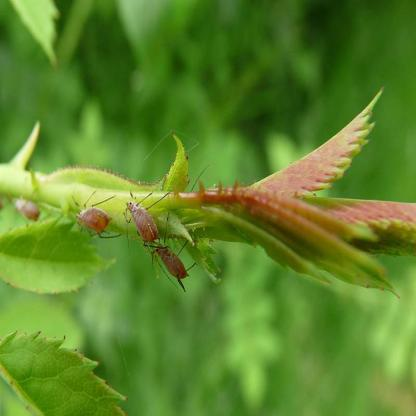aphid: (145, 228, 193, 296), (122, 194, 168, 255), (70, 192, 118, 249), (10, 191, 42, 228)
